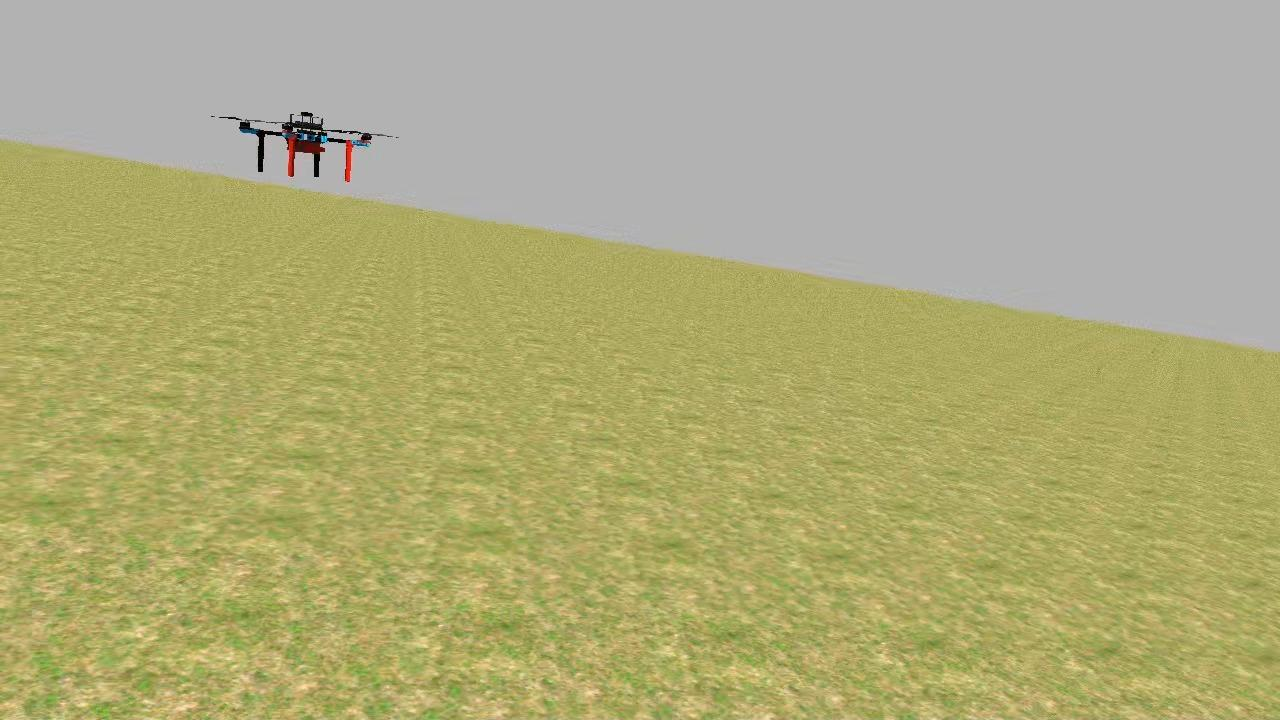UAV: (198, 90, 413, 203)
